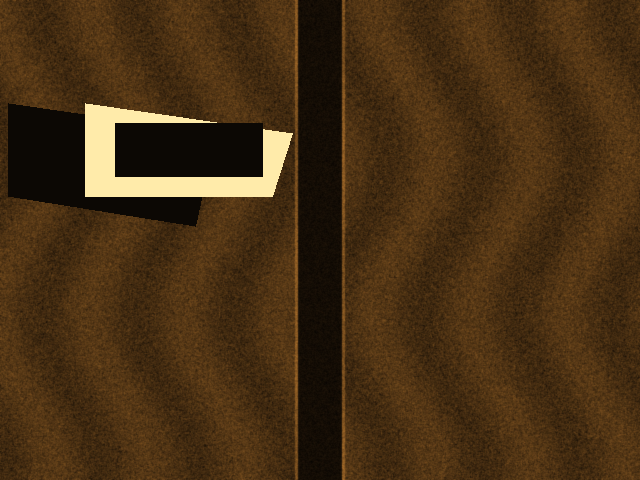Ship/Boat Debris: (85, 103, 292, 196)
